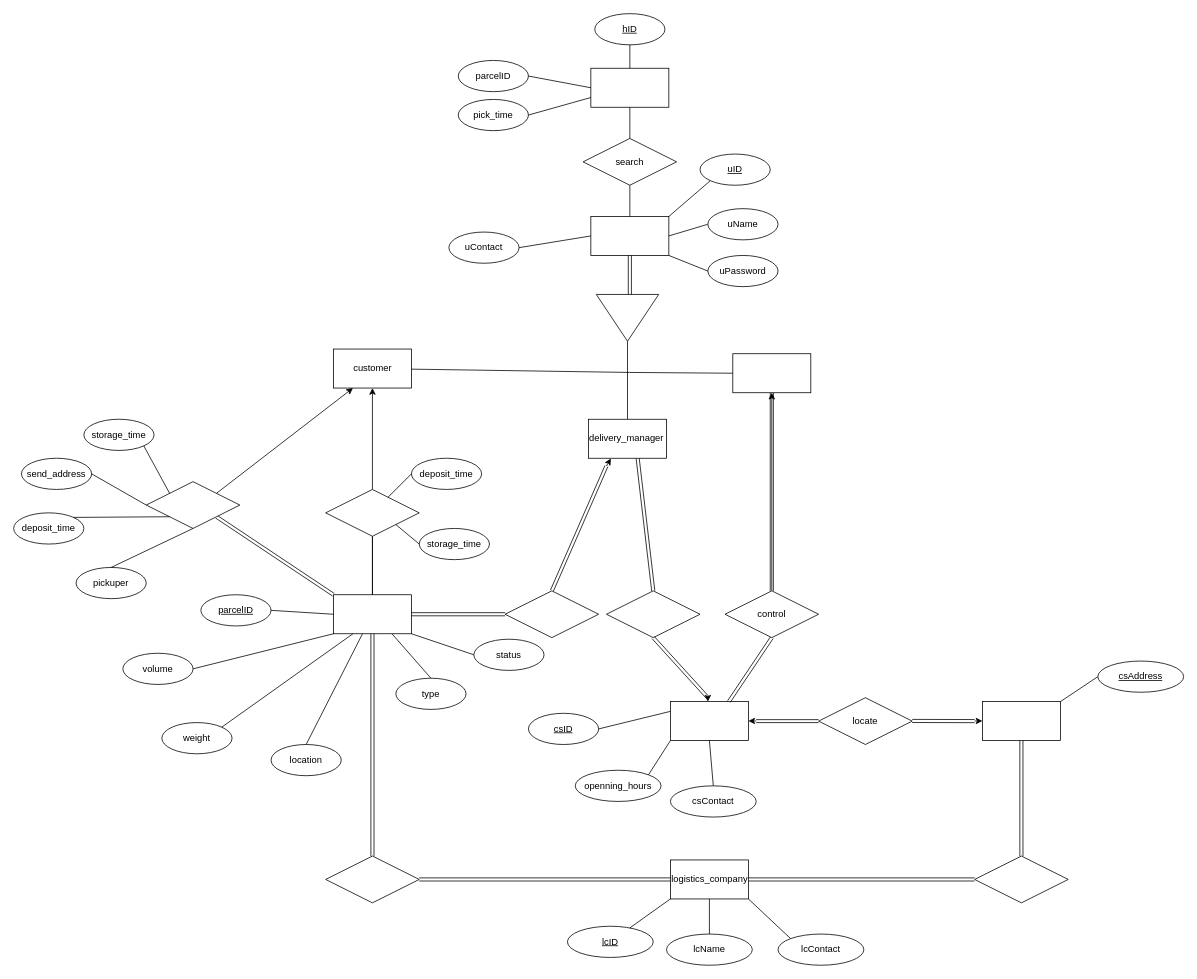
The diagram is 1197 pixels wide and 979 high, and some of its shapes have lost their labels. The shapes that lost their labels are listed below. From the top down, each one's box as (x1, y1, x2, y2) in pixels, then its label:
(590, 67, 669, 107): history
(590, 216, 669, 255): user
(596, 294, 659, 341): ISA
(732, 353, 811, 393): adminstrator
(145, 481, 240, 528): send
(325, 489, 419, 536): take
(333, 594, 411, 634): parcel
(504, 590, 599, 638): manage
(606, 590, 700, 638): belong
(670, 701, 748, 741): courier_station
(982, 701, 1060, 741): address
(325, 855, 419, 903): carry
(974, 855, 1068, 903): transfer
